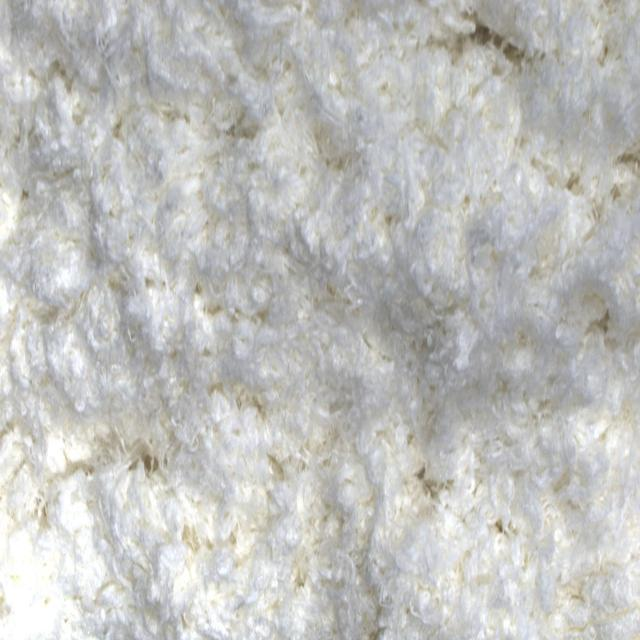dust: (463, 18, 539, 74)
